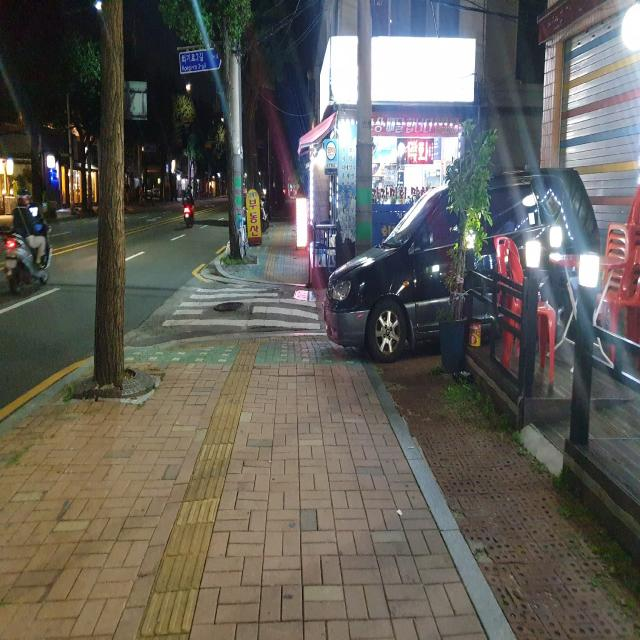횡단보도: (162, 288, 321, 329)
